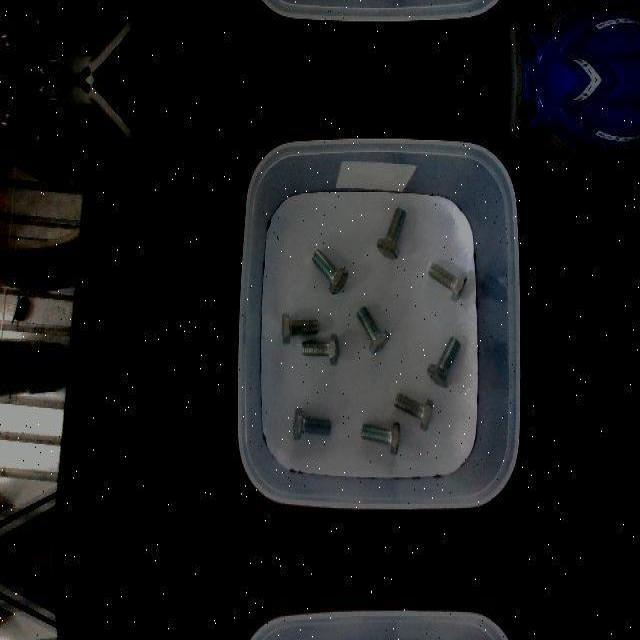screw: (426, 336, 460, 388), (356, 305, 391, 355), (428, 261, 468, 303), (312, 249, 348, 295), (377, 208, 406, 260), (394, 393, 433, 431), (291, 407, 331, 441), (361, 421, 400, 455), (282, 311, 319, 345), (302, 334, 340, 366)
